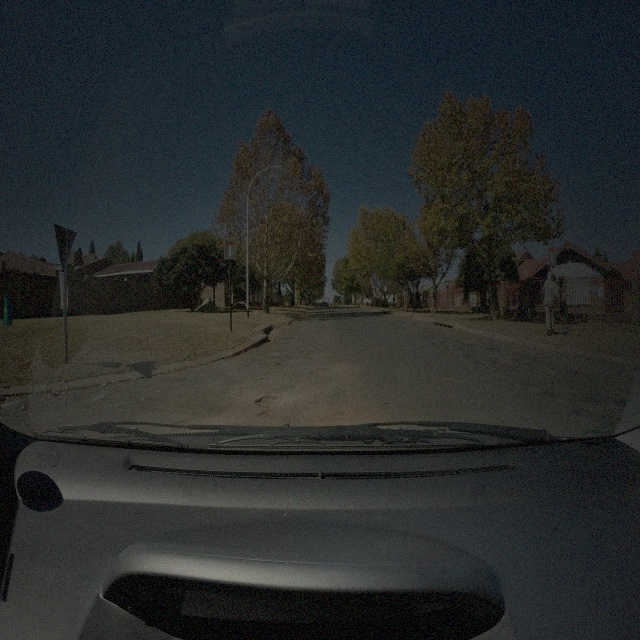pothole: (254, 392, 280, 410), (255, 414, 280, 424), (309, 367, 328, 377), (524, 385, 542, 394), (442, 376, 457, 386), (255, 375, 267, 383), (276, 360, 282, 370)
